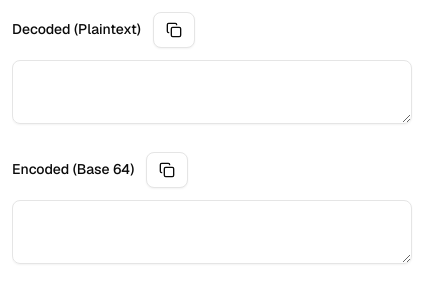
Test: Base64 Tool › shows "Invalid input" when decoding invalid base64
This screenshot has width=432, height=284.
In the text box labelled "Encoded (Base 64)": (212, 232) [12,200,412,264], type "!!!"
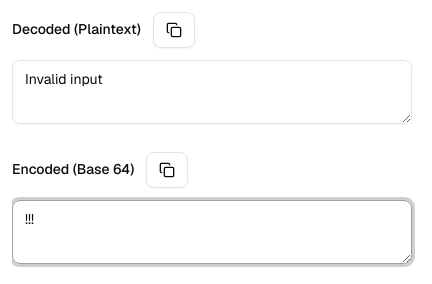
Check: the text box labelled "Decoded (Plaintext)" holds "Invalid input", box [12,60,412,124]
